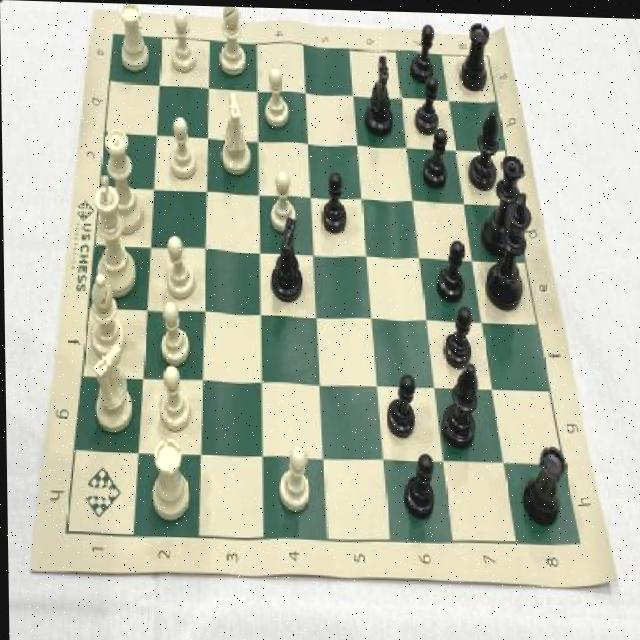bishop: (441, 359, 476, 449), (466, 103, 499, 190)
black-bishop: (485, 188, 531, 308)
black-king: (267, 217, 304, 301), (363, 50, 394, 135)
black-knight: (401, 446, 435, 520), (382, 369, 415, 439), (442, 304, 473, 368), (434, 236, 464, 301), (420, 122, 448, 187), (319, 167, 345, 235), (408, 17, 435, 79), (413, 77, 439, 132)
black-pawn: (482, 151, 526, 250)
black-rook: (86, 271, 126, 361), (215, 5, 249, 75)
white-bishop: (88, 171, 136, 298)
white-king: (89, 342, 135, 431), (216, 88, 253, 175)
white-knight: (155, 364, 192, 432), (276, 443, 310, 512), (164, 233, 195, 300), (157, 299, 188, 363), (168, 10, 197, 76), (168, 113, 196, 179), (268, 167, 296, 231), (262, 68, 291, 128)
white-pawn: (97, 127, 144, 235)
white-queen: (519, 437, 566, 526), (146, 436, 190, 521), (459, 17, 490, 92), (116, 3, 150, 71)
